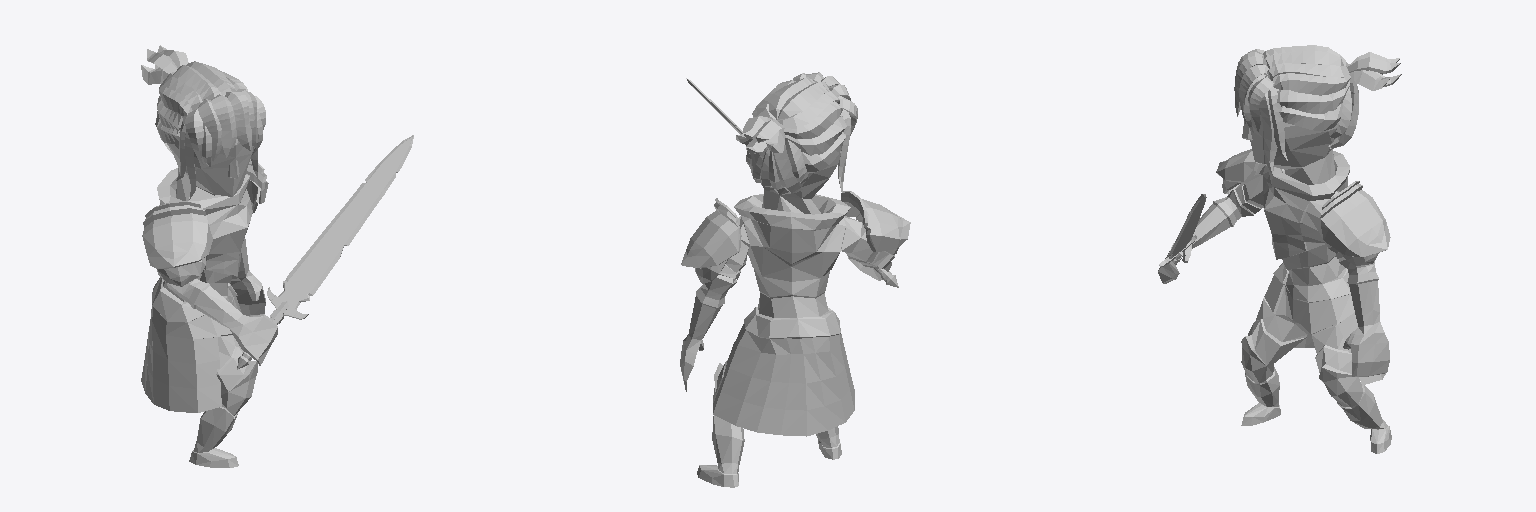
The picture shows the model from 3 angles: view 1: azimuth 30°, elevation 25°; view 2: azimuth 150°, elevation 25°; view 3: azimuth 270°, elevation 25°; orthographic projection.
Visible parts, largest first — view 1: Warrior.002__ncl1_29.005, Face__ncl1_29.002, Warrior_Sword_Cylinder.001, Shoulder.R__ncl1_29.001, Shoulder.L__ncl1_29.000; view 2: Warrior.002__ncl1_29.005, Face__ncl1_29.002, Shoulder.L__ncl1_29.000, Shoulder.R__ncl1_29.001, Warrior_Sword_Cylinder.001; view 3: Warrior.002__ncl1_29.005, Face__ncl1_29.002, Shoulder.L__ncl1_29.000, Shoulder.R__ncl1_29.001, Warrior_Sword_Cylinder.001.
Boxes of the visible parts, x1=… form: Warrior.002__ncl1_29.005: x1=141, y1=116, x2=277, y2=467; Face__ncl1_29.002: x1=141, y1=45, x2=265, y2=199; Warrior_Sword_Cylinder.001: x1=237, y1=135, x2=413, y2=369; Shoulder.R__ncl1_29.001: x1=142, y1=201, x2=212, y2=286; Shoulder.L__ncl1_29.000: x1=246, y1=159, x2=268, y2=213; Warrior.002__ncl1_29.005: x1=680, y1=151, x2=894, y2=487; Face__ncl1_29.002: x1=736, y1=72, x2=857, y2=194; Shoulder.L__ncl1_29.000: x1=681, y1=198, x2=741, y2=283; Shoulder.R__ncl1_29.001: x1=841, y1=191, x2=910, y2=254; Warrior_Sword_Cylinder.001: x1=686, y1=78, x2=898, y2=287; Warrior.002__ncl1_29.005: x1=1158, y1=108, x2=1391, y2=453; Face__ncl1_29.002: x1=1234, y1=45, x2=1401, y2=174; Shoulder.L__ncl1_29.000: x1=1320, y1=181, x2=1390, y2=265; Shoulder.R__ncl1_29.001: x1=1216, y1=149, x2=1264, y2=194; Warrior_Sword_Cylinder.001: x1=1159, y1=194, x2=1206, y2=266.
Bounding box in the file's own units: 1.87 × 2.79 × 1.65.